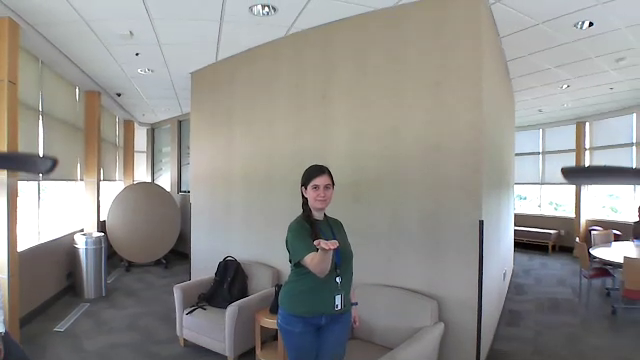land: (309, 234, 345, 254)
